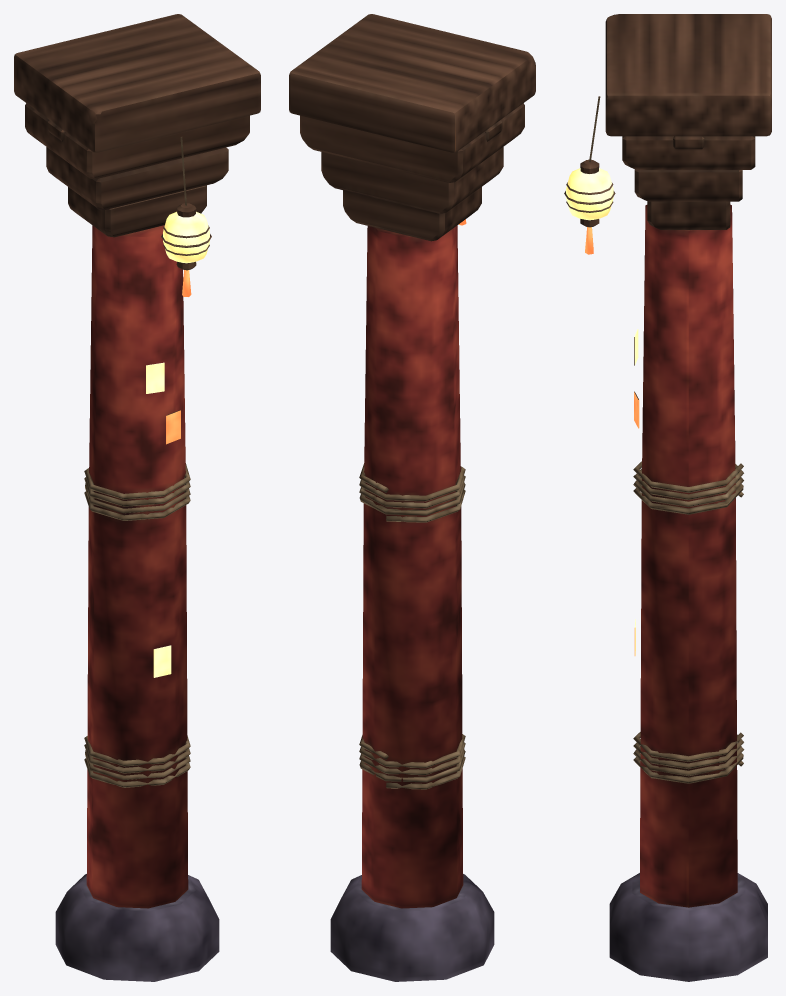
The model's file is StiltVillage_Pillar.fbx.
The picture shows the model from 3 angles, left to right: view 1: azimuth 30°, elevation 25°; view 2: azimuth 150°, elevation 25°; view 3: azimuth 270°, elevation 25°; orthographic projection.
Visible parts, largest first — view 1: StiltVillage_Pillar; view 2: StiltVillage_Pillar; view 3: StiltVillage_Pillar.
Part boxes in pixels (x1,y1,x2,y2): StiltVillage_Pillar: [14, 14, 260, 981]; StiltVillage_Pillar: [289, 14, 535, 981]; StiltVillage_Pillar: [564, 14, 771, 981].
Bounding box in the file's own units: 0.99 × 4.98 × 1.05.
